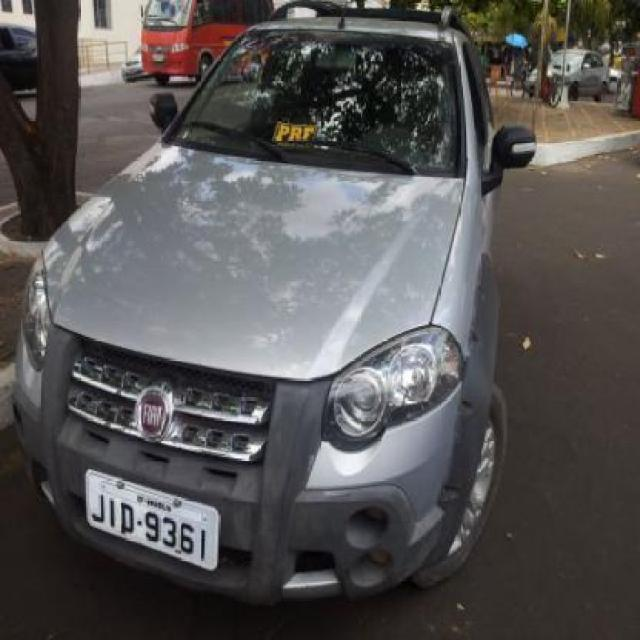old_plate: (80, 465, 222, 575)
